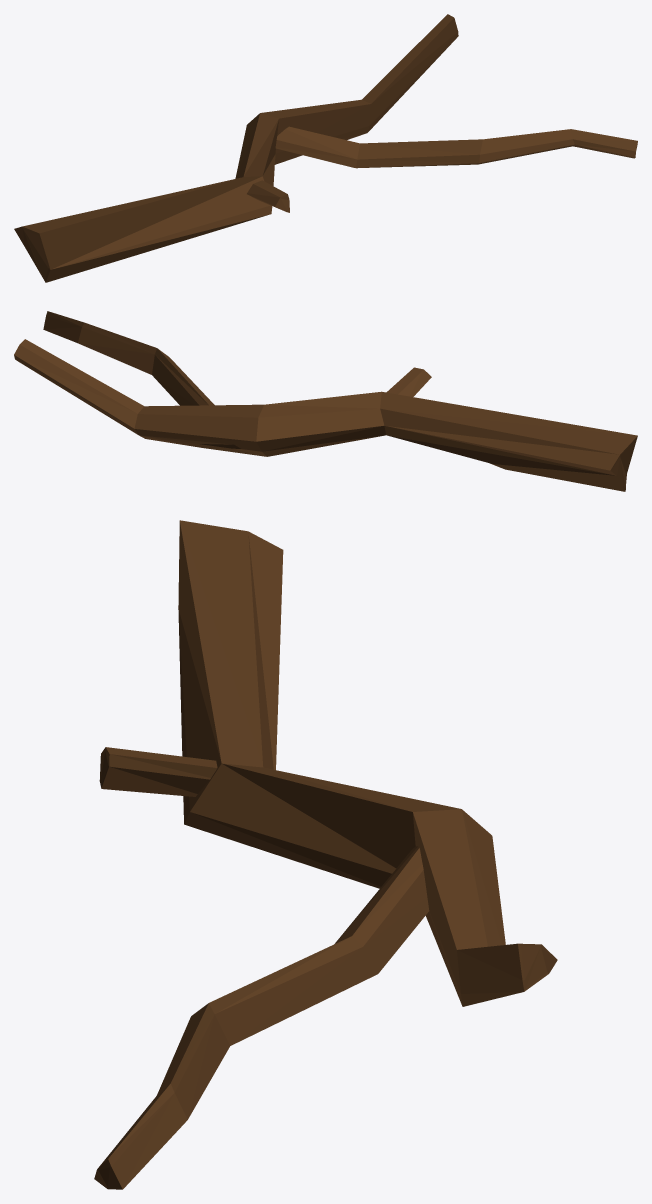
The model's file is SM_Tree_Oak_Branch_A.fbx.
The picture shows the model from 3 angles, top to bottom: view 1: azimuth 30°, elevation 25°; view 2: azimuth 150°, elevation 25°; view 3: azimuth 270°, elevation 25°; orthographic projection. The views are drawn at different scales.
Parts seen in each view (by area): view 1: tree-oak-branch-a; view 2: tree-oak-branch-a; view 3: tree-oak-branch-a.
Part boxes in pixels (x1=…): tree-oak-branch-a: x1=14, y1=14, x2=637, y2=282; tree-oak-branch-a: x1=14, y1=311, x2=637, y2=491; tree-oak-branch-a: x1=94, y1=520, x2=557, y2=1189.
Size of the model in its own units: 4.57 by 0.6447 by 1.58.
